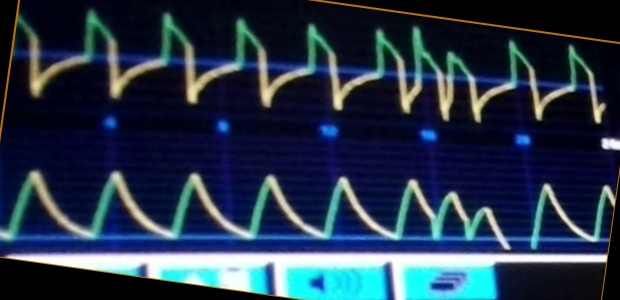Double_Triggering Flow: (31, 10, 603, 124)
Double_Triggering Volume: (30, 148, 607, 251)
